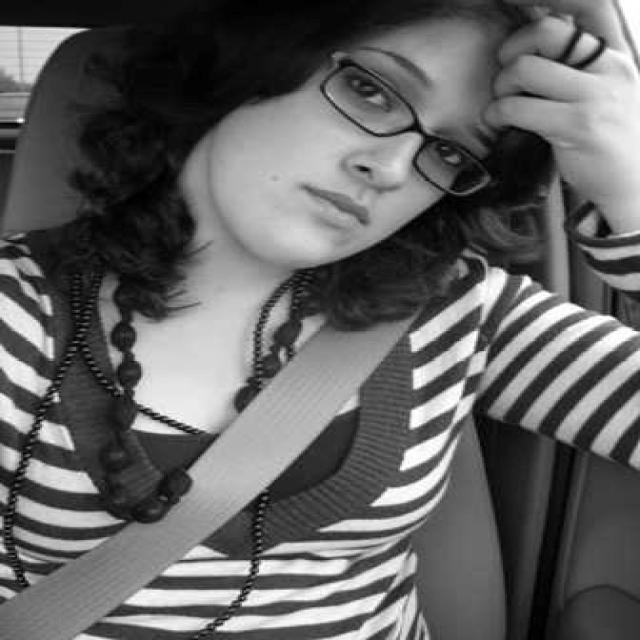Seatbelt: (6, 319, 400, 635)
